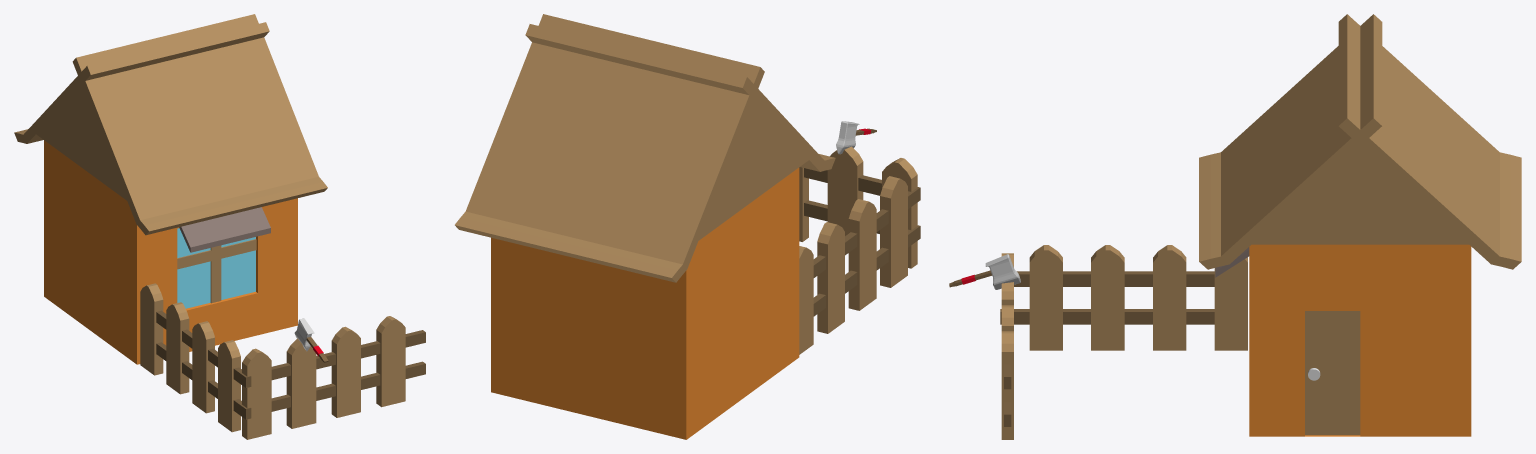
File: casa vila laranja.fbx
3 views of the same model, side by side, from view 1: azimuth 30°, elevation 25°; view 2: azimuth 150°, elevation 25°; view 3: azimuth 270°, elevation 25° (orthographic). The views are drawn at different scales.
Visible parts, largest first — view 1: Cube.001, Cube, Cube.006, Cube.002, Cube.005, Cube.003, Cube.009; view 2: Cube.001, Cube, Cube.006, Cube.009; view 3: Cube.001, Cube, Cube.006, Cube.004, Cube.009.
Part boxes in pixels (x1,y1,x2,y2): Cube.001: (14, 14, 327, 235); Cube: (44, 140, 297, 364); Cube.006: (140, 283, 425, 439); Cube.002: (177, 228, 255, 308); Cube.005: (179, 207, 270, 252); Cube.003: (177, 239, 256, 303); Cube.009: (294, 318, 328, 362); Cube.001: (455, 14, 835, 282); Cube: (491, 167, 799, 439); Cube.006: (799, 146, 920, 354); Cube.009: (836, 121, 876, 154); Cube.001: (1199, 14, 1521, 269); Cube: (1249, 244, 1471, 436); Cube.006: (1000, 245, 1247, 439); Cube.004: (1305, 311, 1360, 435); Cube.009: (949, 254, 1020, 289).
Size of the model in its own units: 218 by 291 by 464.
